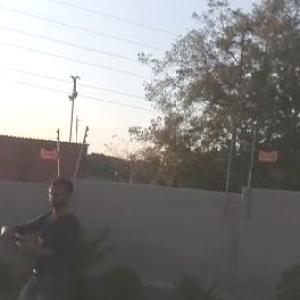follow: (0, 171, 84, 299)
